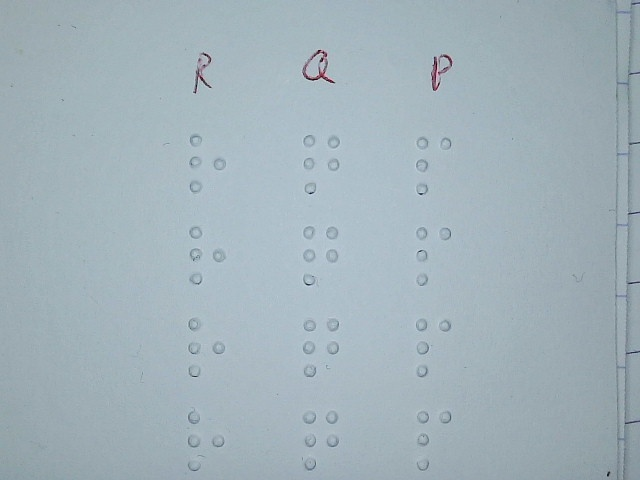P: (413, 133, 454, 197), (413, 224, 454, 288), (413, 315, 454, 379), (414, 407, 455, 471)
Q: (301, 132, 342, 196), (300, 223, 341, 287), (301, 315, 342, 379), (301, 408, 342, 472)
R: (187, 131, 228, 195), (187, 223, 228, 287), (186, 315, 227, 379), (185, 407, 226, 471)
